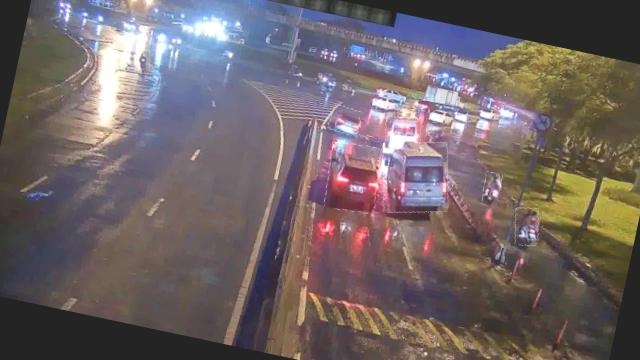Bike: (511, 204, 544, 248), (481, 171, 504, 205), (134, 49, 152, 74)
Bus: (373, 134, 458, 222), (382, 112, 424, 154)
Car: (322, 139, 386, 215), (328, 104, 362, 136)
